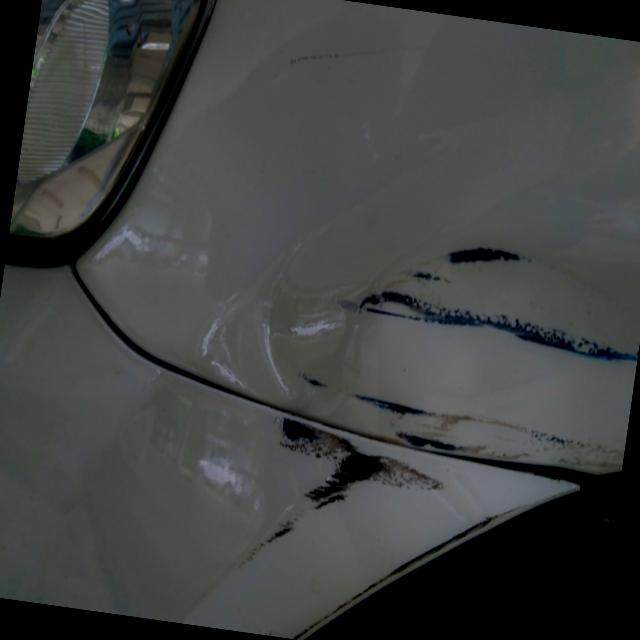Cabossage: (140, 126, 465, 629)
Rayure: (249, 351, 632, 617), (270, 18, 440, 94)
